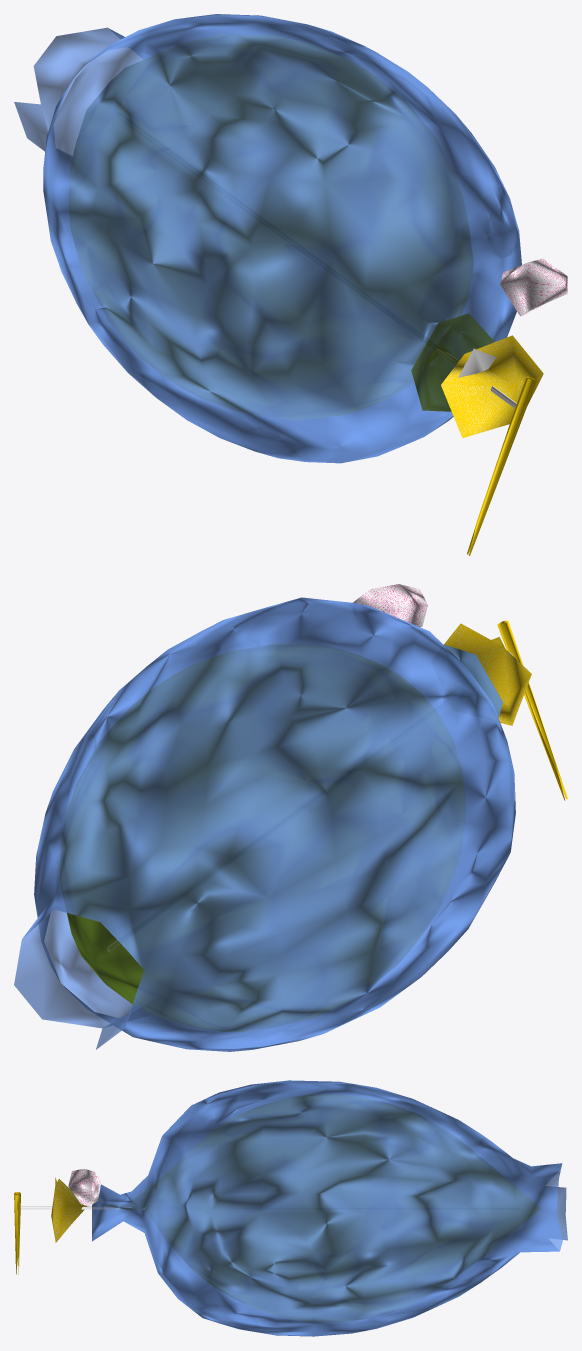
The model's file is model_align.obj.
The picture shows the model from 3 angles, top to bottom: view 1: azimuth 30°, elevation 25°; view 2: azimuth 150°, elevation 25°; view 3: azimuth 270°, elevation 25°; orthographic projection. The views are drawn at different scales.
Bounding box in the file's own units: 0.0595 × 0.0594 × 0.1286.
